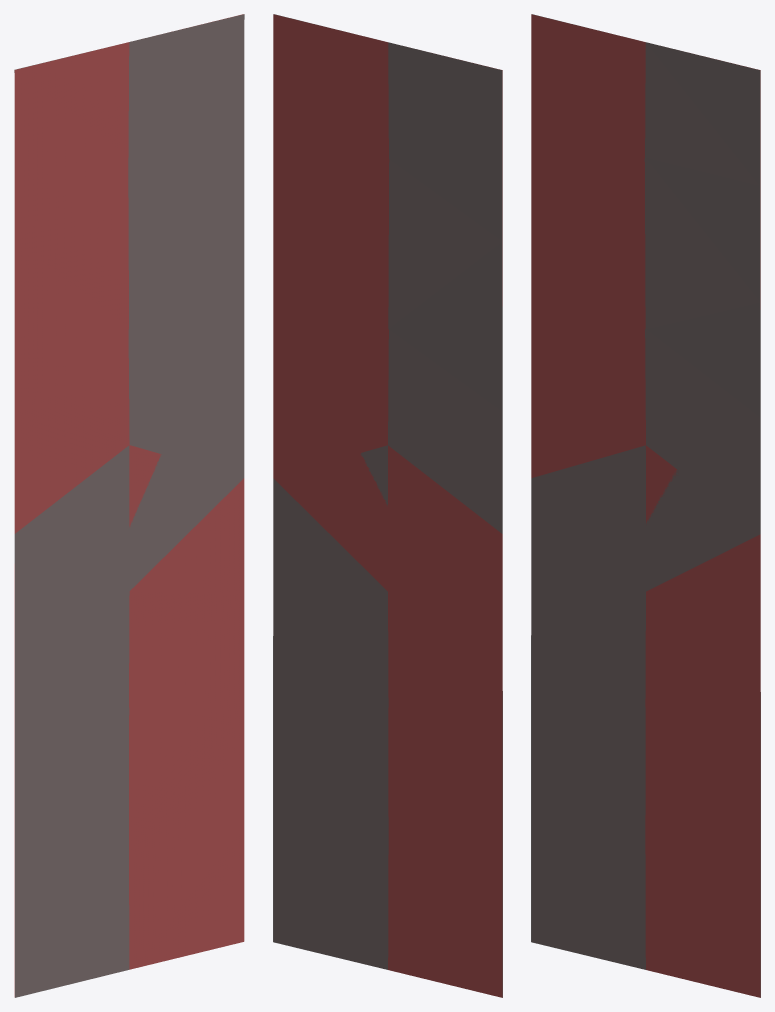
Rendered from warping-rectangle-12.377-3.2024-24.glb.
3 views of the same model, side by side, from view 1: azimuth 30°, elevation 25°; view 2: azimuth 150°, elevation 25°; view 3: azimuth 330°, elevation 25° (orthographic).
Parts seen in each view (by area): view 1: undeformed cross-section, cross-section with warping; view 2: undeformed cross-section, cross-section with warping; view 3: cross-section with warping, undeformed cross-section.
Part boxes in pixels (box(x1,y1,x2,y2)): undeformed cross-section: box(14, 14, 244, 997); cross-section with warping: box(14, 14, 244, 997); undeformed cross-section: box(273, 14, 502, 997); cross-section with warping: box(273, 14, 502, 997); cross-section with warping: box(531, 14, 760, 997); undeformed cross-section: box(531, 14, 760, 997).
Size of the model in its own units: 0.0032 by 0.0124 by 1.48e-05.
